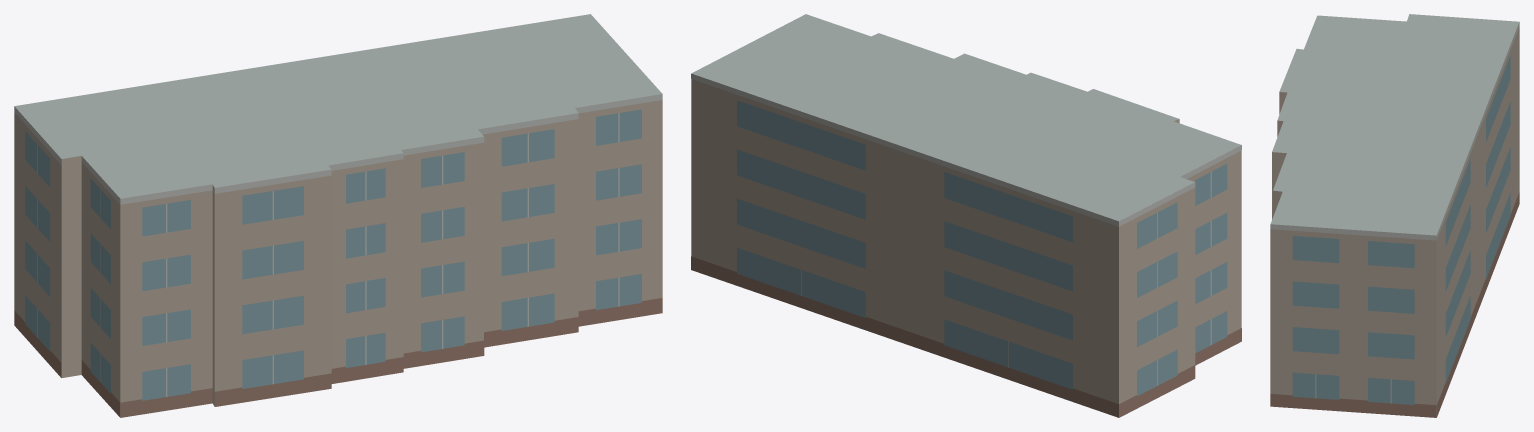
Rendered from survey-upis-32679888.glb.
3 views of the same model, side by side, from view 1: azimuth 30°, elevation 25°; view 2: azimuth 150°, elevation 25°; view 3: azimuth 270°, elevation 25° (orthographic). The views are drawn at different scales.
Visible parts, largest first — view 1: survey-upis-32679888.tmp; view 2: survey-upis-32679888.tmp; view 3: survey-upis-32679888.tmp.
Boxes of the visible parts, left/top/right/bottom form: survey-upis-32679888.tmp: left=14, top=14, right=662, bottom=417; survey-upis-32679888.tmp: left=691, top=14, right=1241, bottom=417; survey-upis-32679888.tmp: left=1270, top=14, right=1519, bottom=417.
Size of the model in its own units: 23.33 by 8.95 by 11.09.
